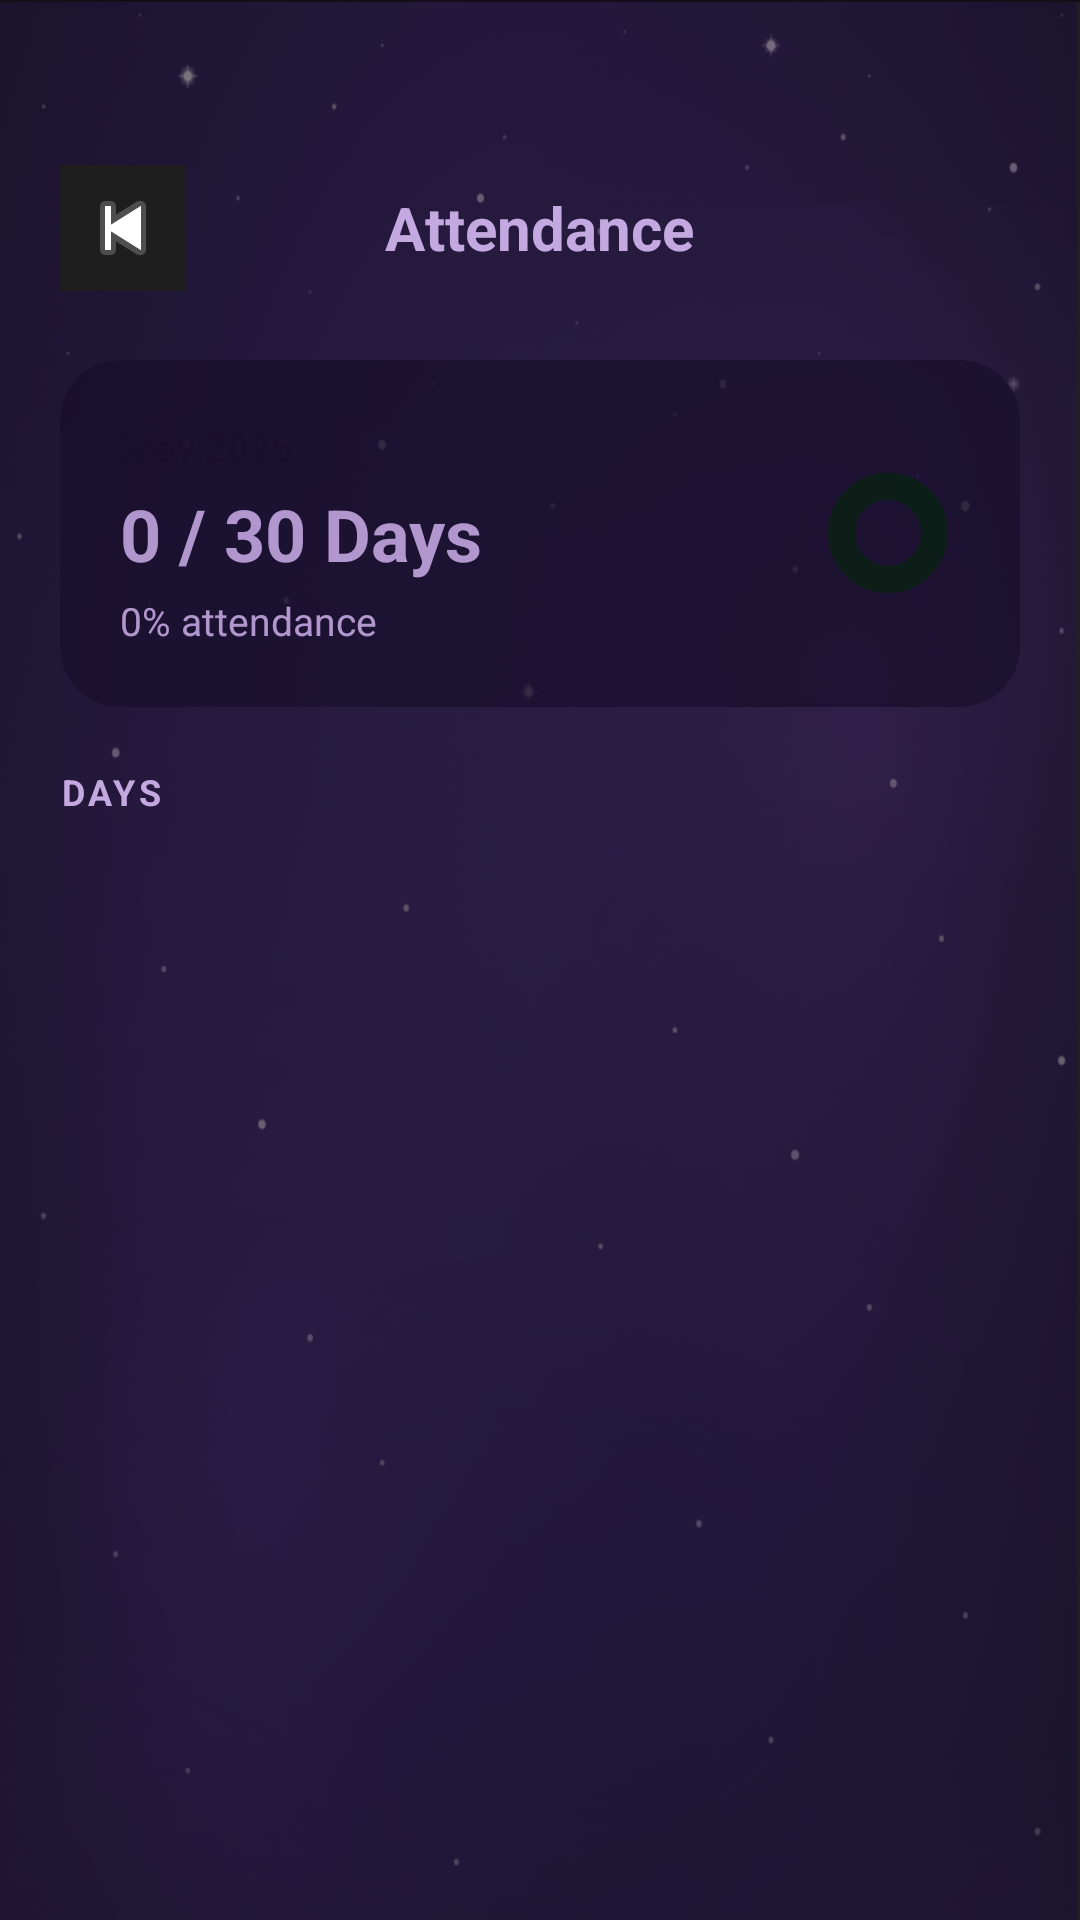

Icon bounding boxes for this 1080 x 1920 phone screenshot, format (x1, y1, x2, y2):
previous: (100, 201, 146, 255)
